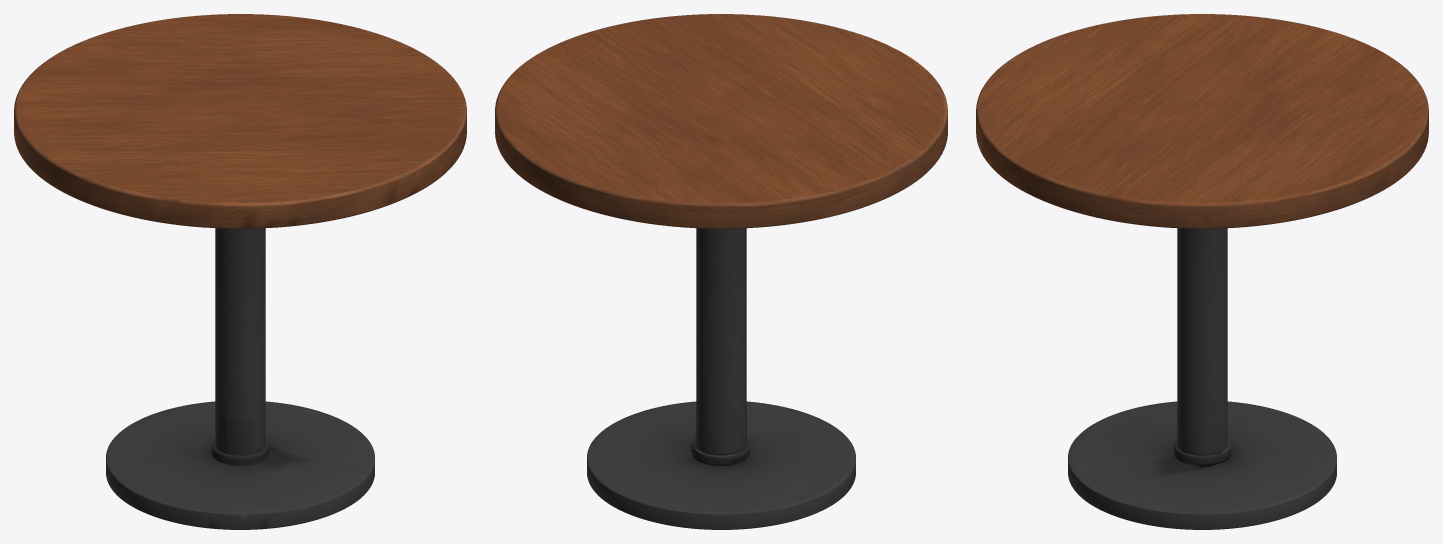
The model's file is table-round.glb.
3 views of the same model, side by side, from view 1: azimuth 30°, elevation 25°; view 2: azimuth 150°, elevation 25°; view 3: azimuth 270°, elevation 25° (orthographic).
Parts seen in each view (by area): view 1: node_0; view 2: node_0; view 3: node_0.
Boxes of the visible parts, x1,y1,x2,y2 form: node_0: (14, 14, 466, 529); node_0: (495, 14, 947, 529); node_0: (976, 14, 1428, 529).
Bounding box in the file's own units: 0.9 × 0.8 × 0.9.
Materials: 1 (1 with a texture image).
